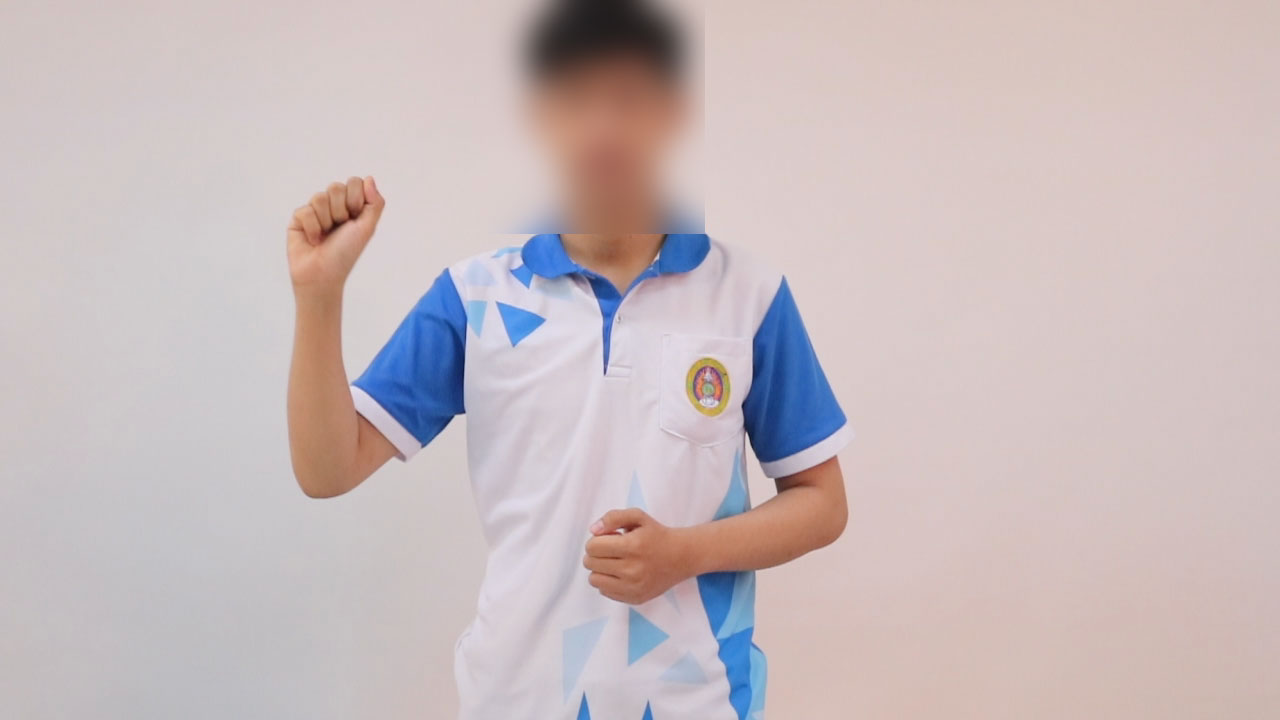sor: (268, 153, 391, 296)
